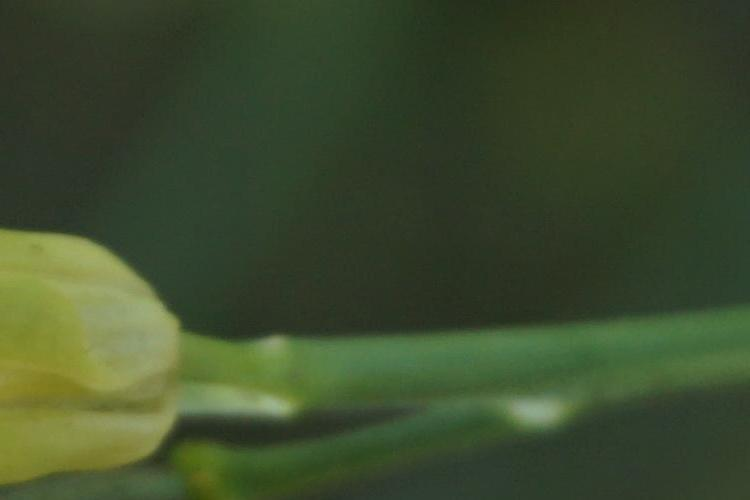yellow: (2, 236, 180, 488)
